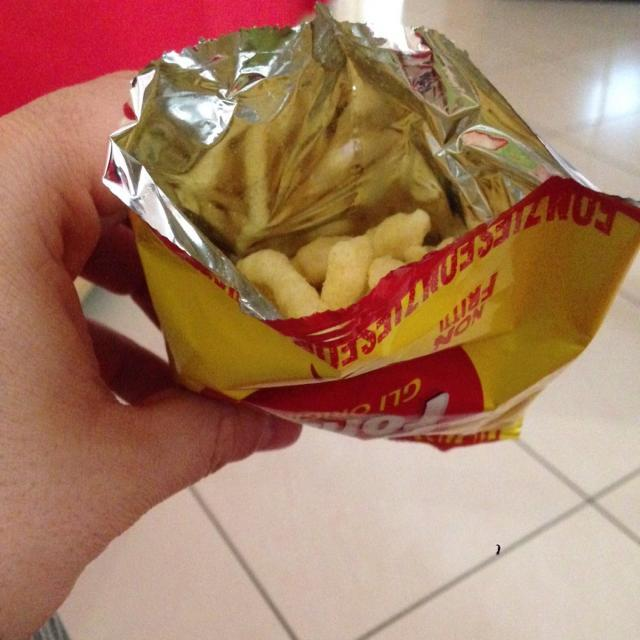Chips packaged: (237, 242, 327, 328), (324, 237, 368, 309)
